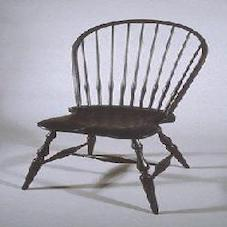chair: (17, 9, 214, 220)
